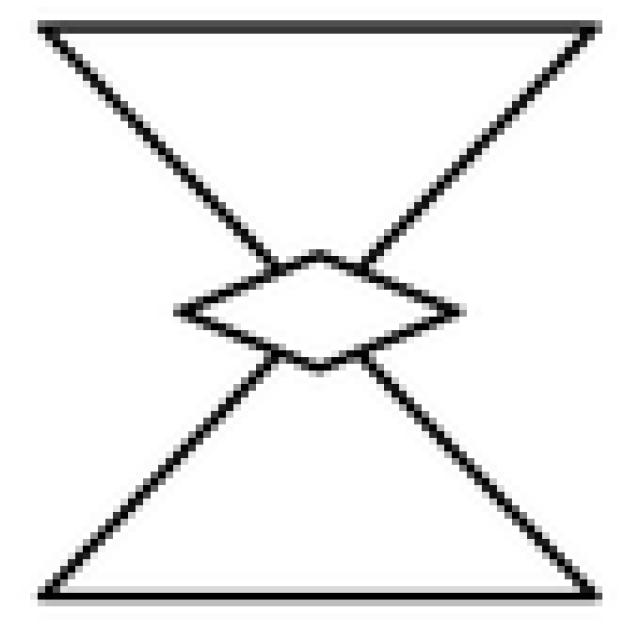Plug Valve: (48, 34, 595, 595)
